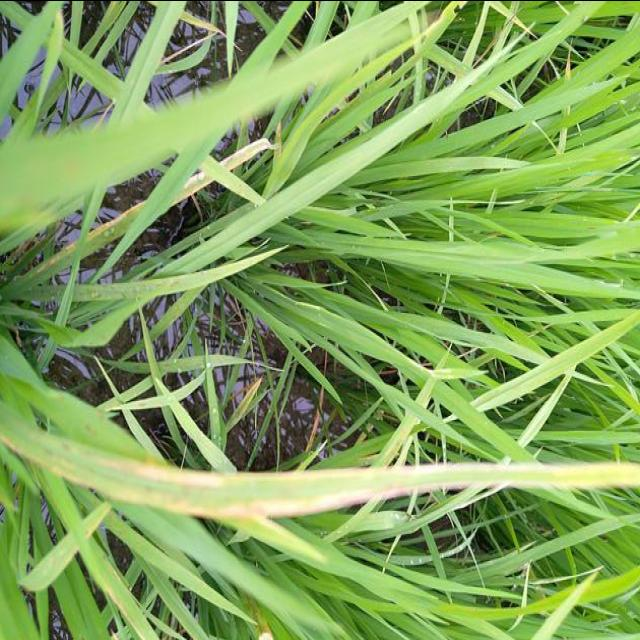Leaf Blight: (0, 426, 640, 517)
